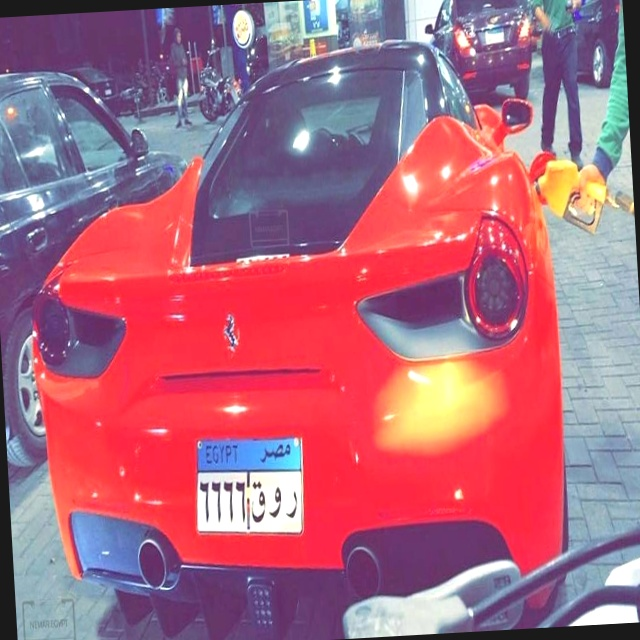License Plate: (188, 427, 311, 545)
